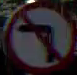Don't turn left: (2, 2, 76, 74)
